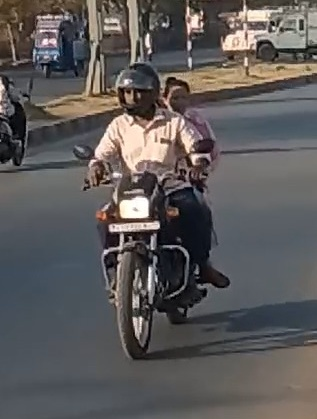BikeWithRider: (67, 58, 236, 365)
Helmet: (109, 58, 165, 121)
NoHelmet: (157, 71, 196, 117)
